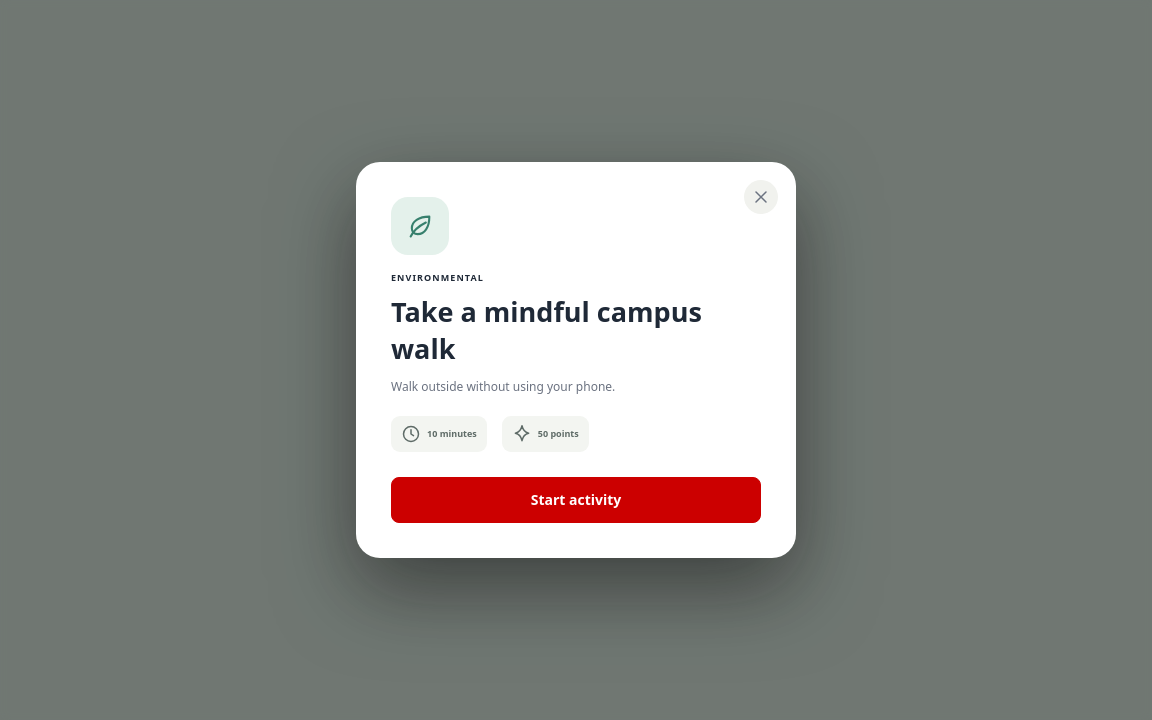
Scenario: ActivityModal › starts a timed activity without completing it immediately
The width and height of the screenshot is (1152, 720).
Click the button "Start activity" at (576,500), box [391, 477, 761, 523]
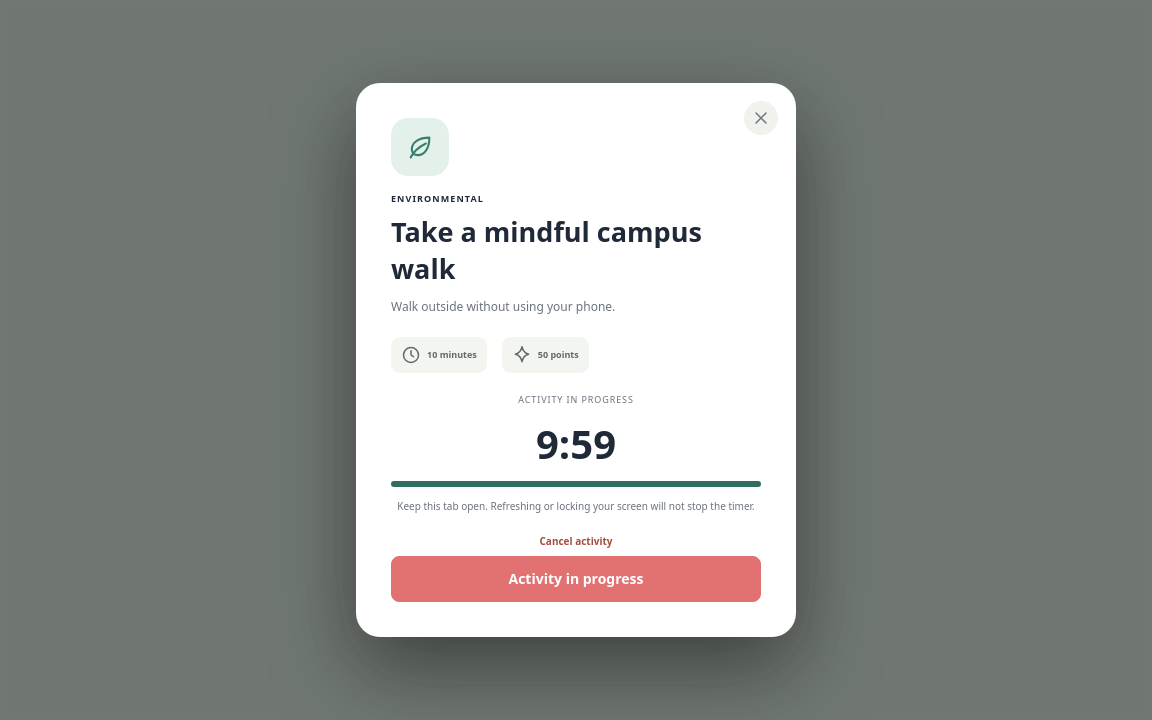
Result: the button "Activity in progress" is disabled at [391, 556, 761, 602]
